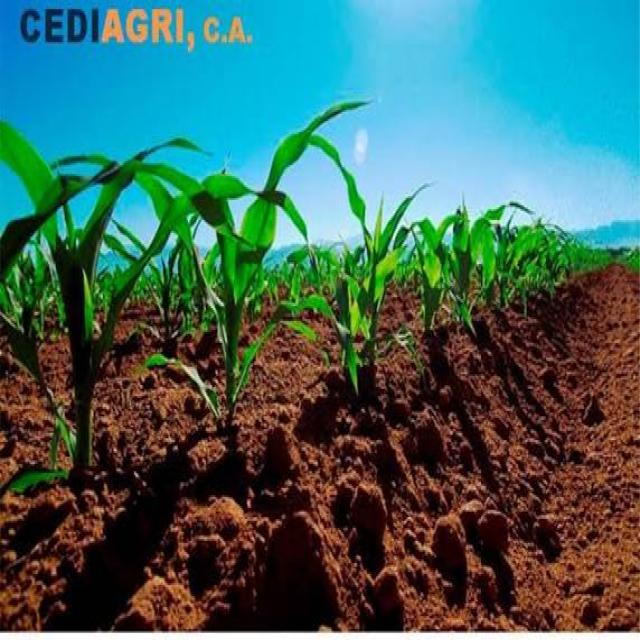suelo_humedo: (44, 192, 601, 597)
